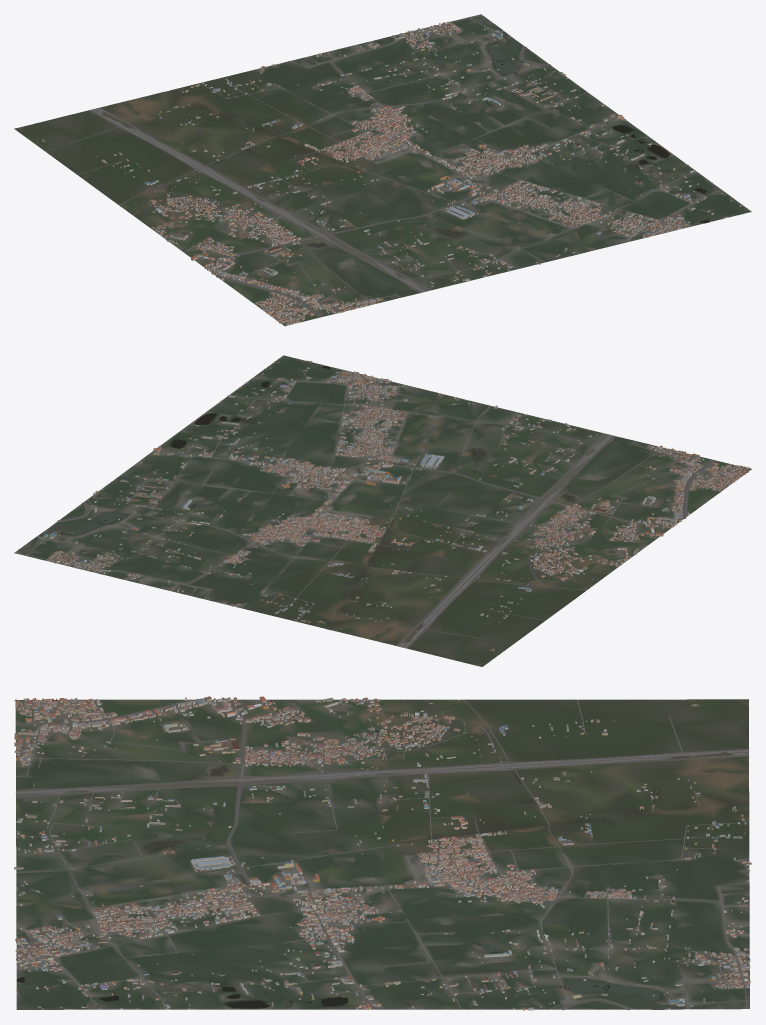
3 renders of one model, top to bottom at view 1: azimuth 30°, elevation 25°; view 2: azimuth 150°, elevation 25°; view 3: azimuth 270°, elevation 25°, orthographic. The views are drawn at different scales.
Parts seen in each view (by area): view 1: ground, buildings, roads, water; view 2: ground, buildings, roads, water; view 3: ground, buildings, roads, water.
Part boxes in pixels (bbox=[...]): ground: bbox=[14, 14, 751, 326]; buildings: bbox=[41, 21, 742, 326]; roads: bbox=[45, 15, 716, 322]; water: bbox=[167, 38, 719, 248]; ground: bbox=[14, 355, 751, 666]; buildings: bbox=[37, 360, 751, 651]; roads: bbox=[15, 369, 740, 648]; water: bbox=[47, 365, 584, 629]; ground: bbox=[15, 699, 749, 1009]; buildings: bbox=[14, 696, 751, 1010]; roads: bbox=[15, 698, 749, 1010]; water: bbox=[17, 730, 749, 1009].
Size of the model in its own units: 2820 by 24.11 by 2822.
